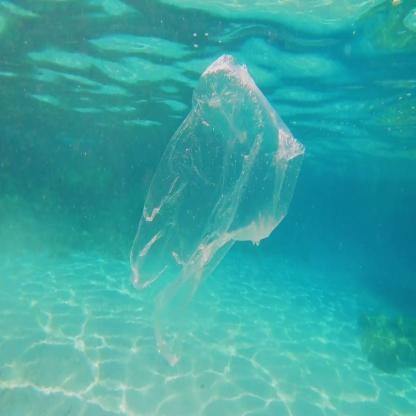Rác: (106, 41, 338, 315)
